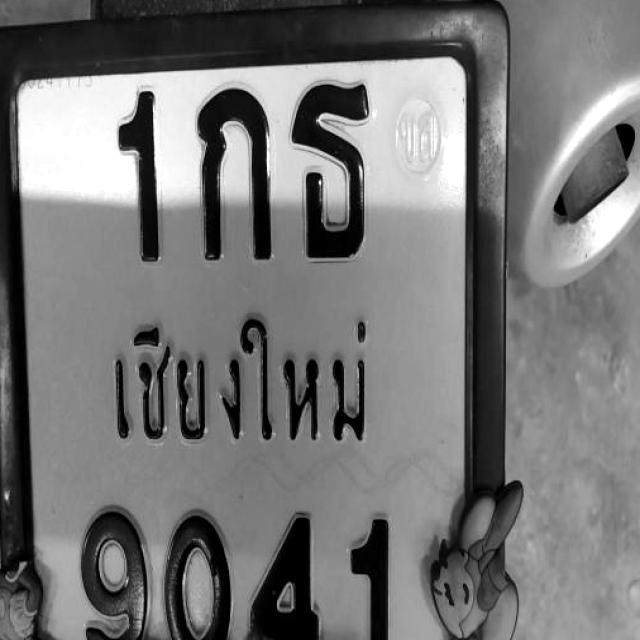letters: (179, 69, 290, 268), (284, 74, 382, 260), (94, 64, 180, 258), (55, 491, 154, 640), (255, 486, 336, 640), (329, 510, 413, 640), (163, 495, 229, 640)
license-plate: (0, 22, 491, 640)
province: (93, 288, 411, 464)
